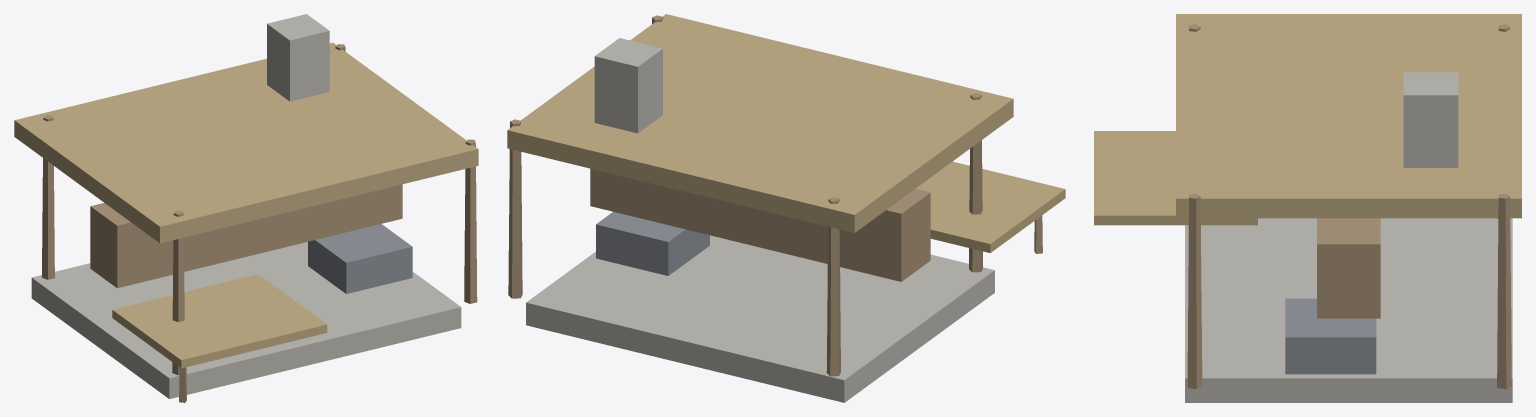
The model's file is settlement_workshop.glb.
The picture shows the model from 3 angles, left to right: view 1: azimuth 30°, elevation 25°; view 2: azimuth 150°, elevation 25°; view 3: azimuth 270°, elevation 25°; orthographic projection. The views are drawn at different scales.
Visible parts, largest first — view 1: lod0; view 2: lod0; view 3: lod0.
Boxes of the visible parts, x1,y1,x2,y2 form: lod0: [14, 14, 478, 402]; lod0: [507, 14, 1065, 402]; lod0: [1094, 14, 1521, 402].
Size of what is drawn, in the model's own units: 5.09 by 3.45 by 4.7.
